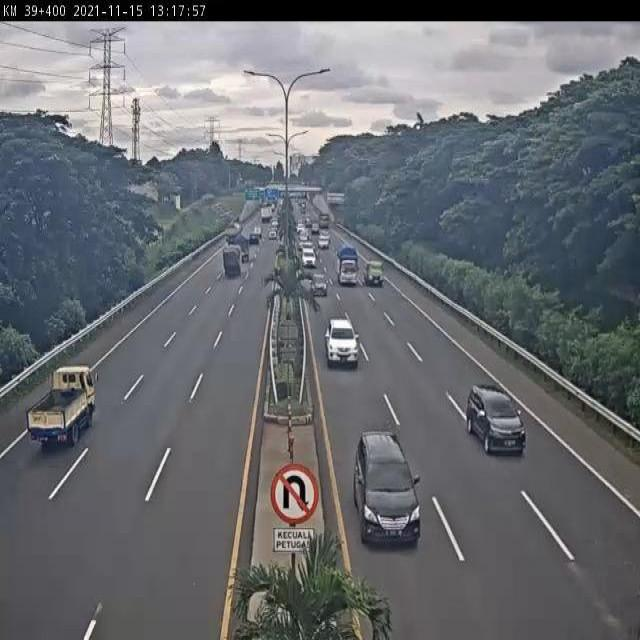car: (352, 432, 421, 548), (468, 384, 526, 453)
truck-s-: (27, 362, 96, 449)
